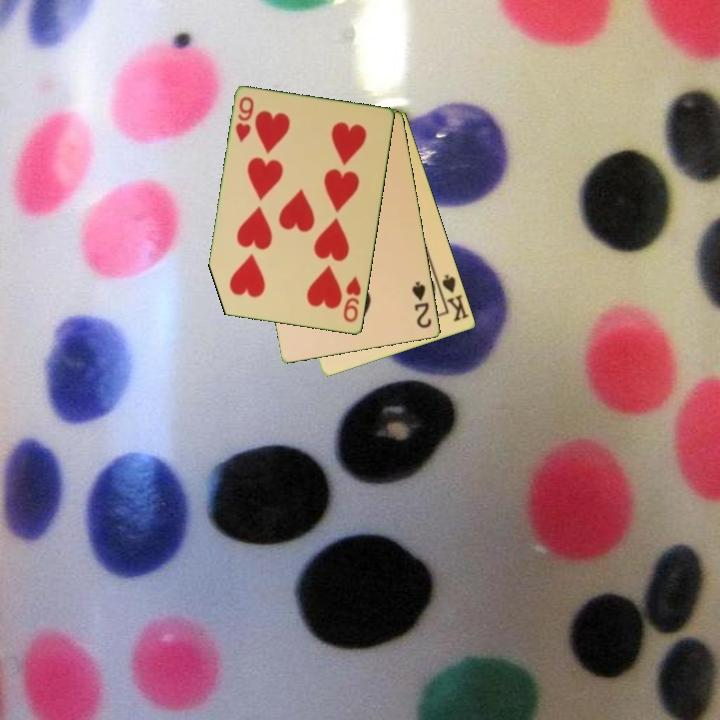2s: (409, 278, 435, 331)
9h: (232, 93, 257, 145), (340, 273, 364, 326)
Ks: (439, 271, 472, 324)
